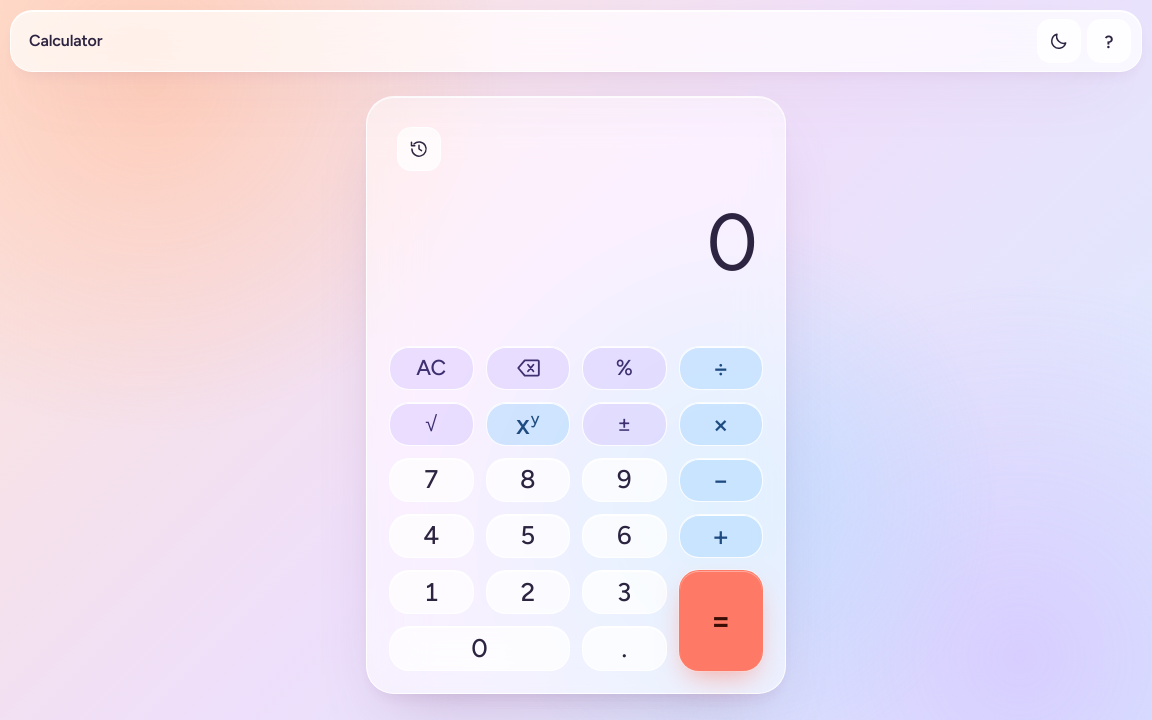
Test: Enter and focused buttons › after mouse clicks, Enter means equals (no double press)
This screenshot has width=1152, height=720.
Click the button "7": (431, 480) [389,458,474,502]
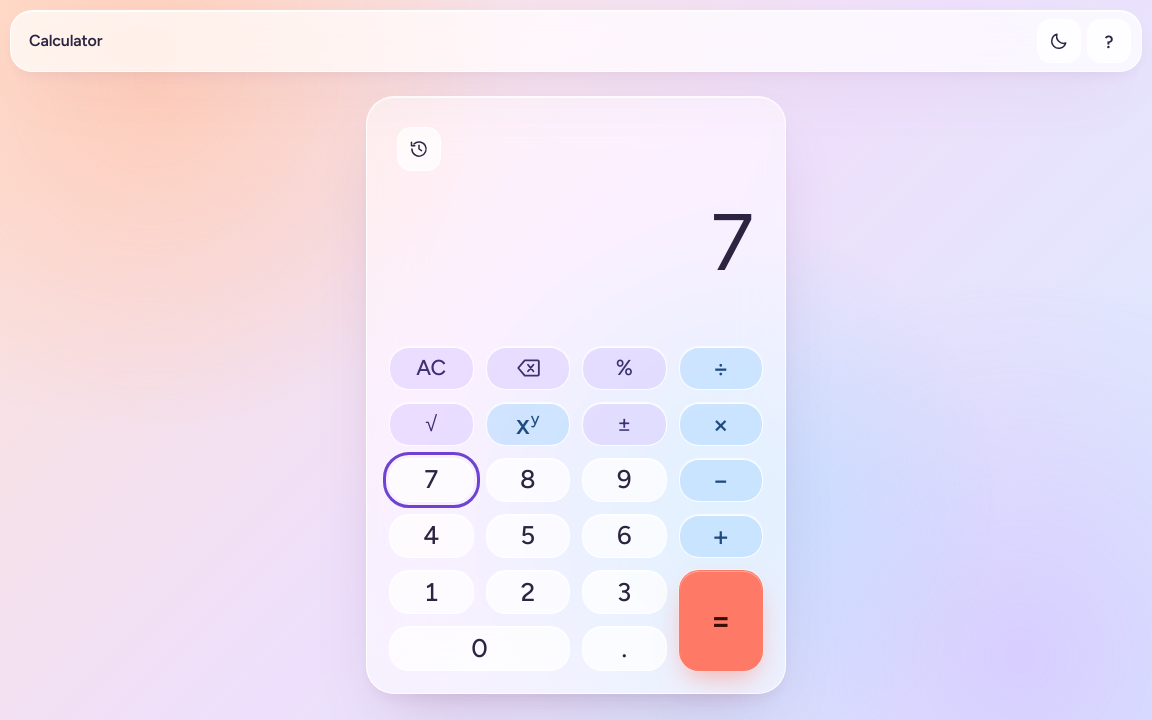
Click the button named "Add": (721, 536) [678,514,763,558]
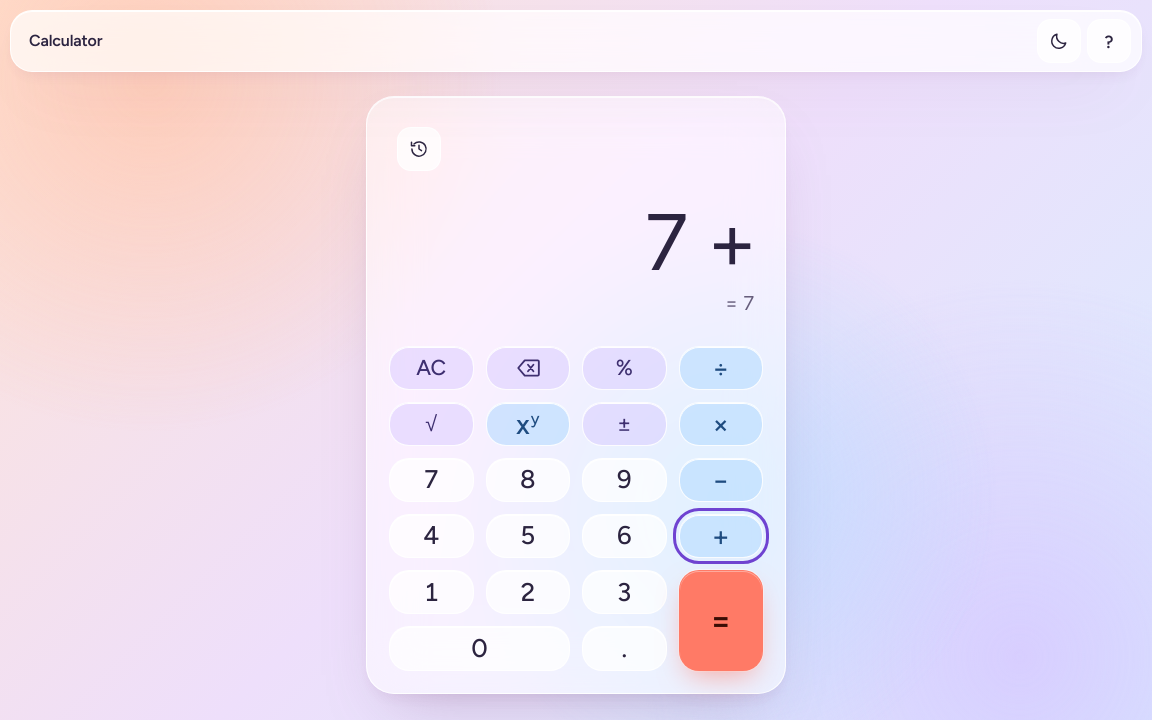
Click the button "2": (528, 592) [486,570,570,614]
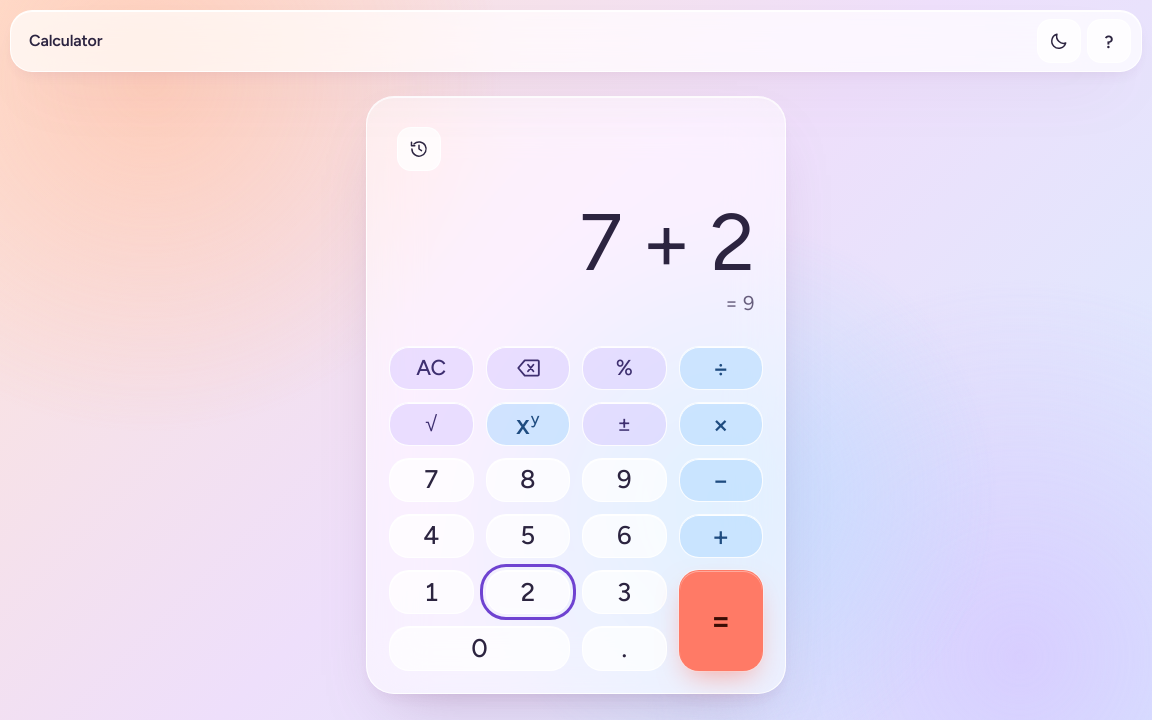
Press Enter
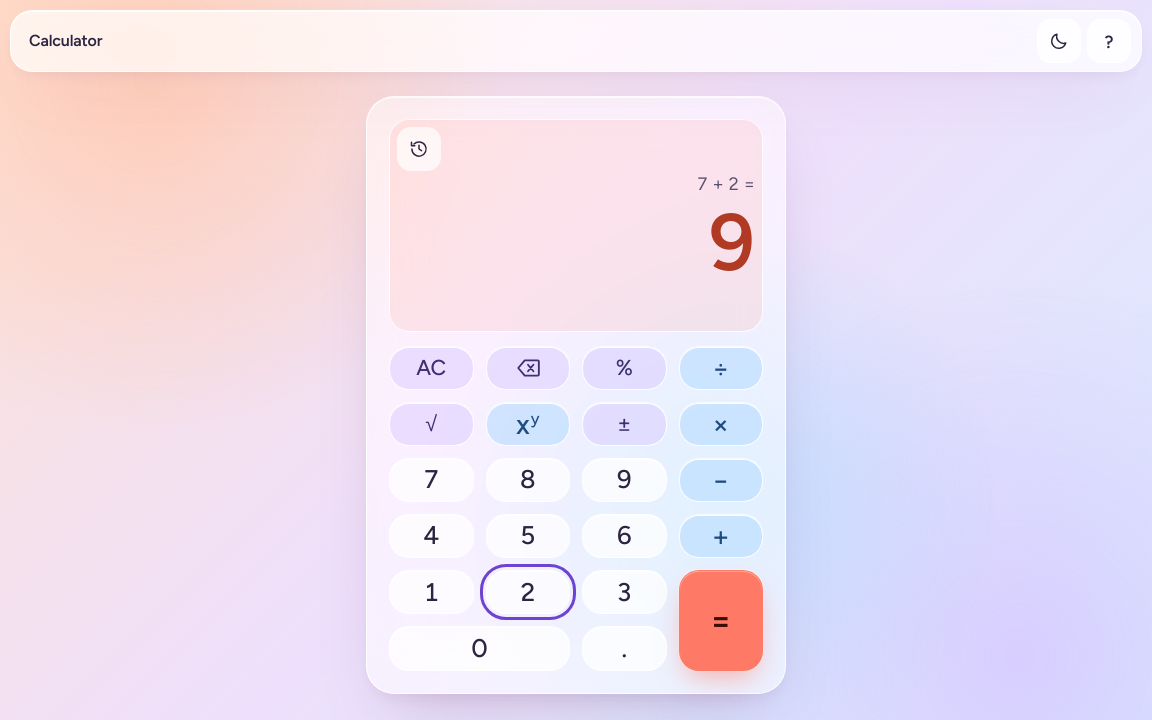
expect the element with test id "display-main" reads "9": met, box [707,194,755,290]
